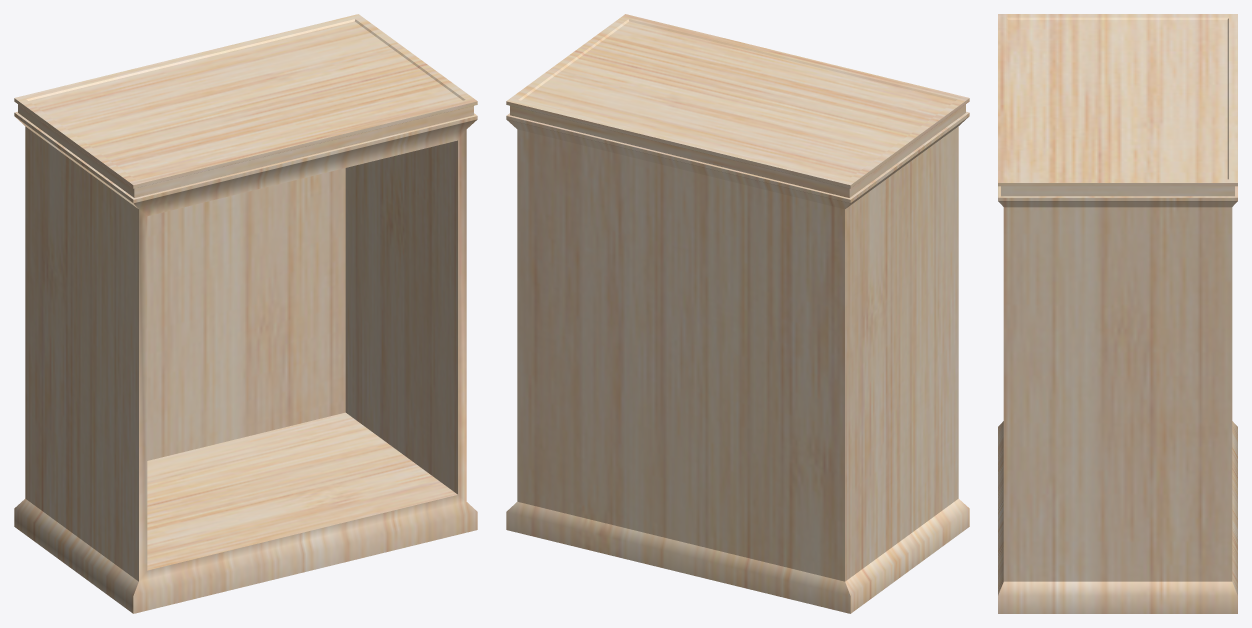
Rendered from Closet_Back.fbx.
3 views of the same model, side by side, from view 1: azimuth 30°, elevation 25°; view 2: azimuth 150°, elevation 25°; view 3: azimuth 270°, elevation 25° (orthographic).
Visible parts, largest first — view 1: Closet; view 2: Closet; view 3: Closet.
Part boxes in pixels (left/top/right/bottom): Closet: left=14, top=14, right=477, bottom=613; Closet: left=506, top=14, right=969, bottom=613; Closet: left=998, top=14, right=1237, bottom=613.
Bounding box in the file's own units: 9.98 × 11.87 × 5.99.
Materials: 1 (1 with a texture image).
